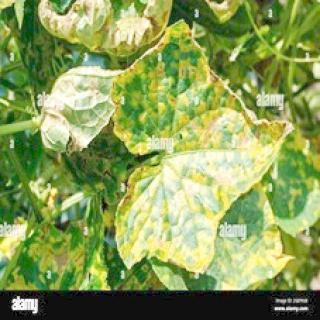grey mildew: (112, 32, 248, 256), (41, 0, 182, 46), (38, 62, 100, 162)
